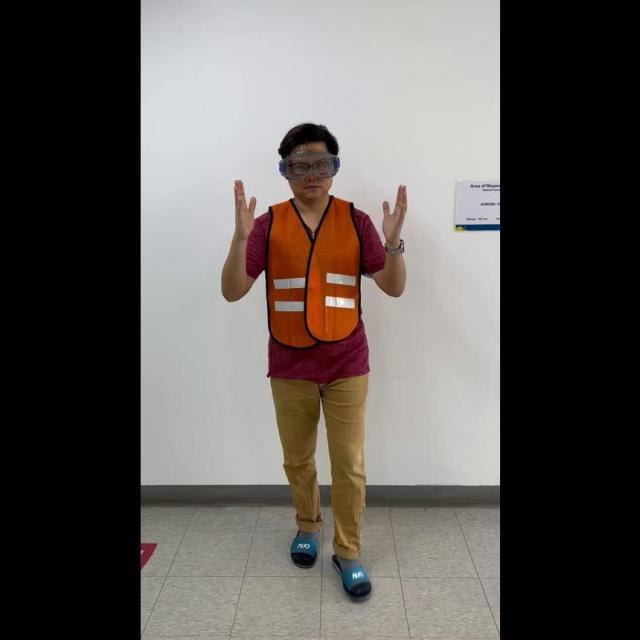bare_hand: (379, 179, 409, 252), (229, 174, 257, 239)
